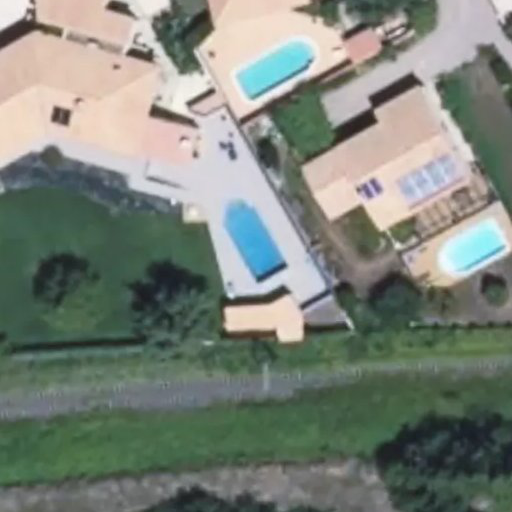pool: (210, 206, 295, 268)
